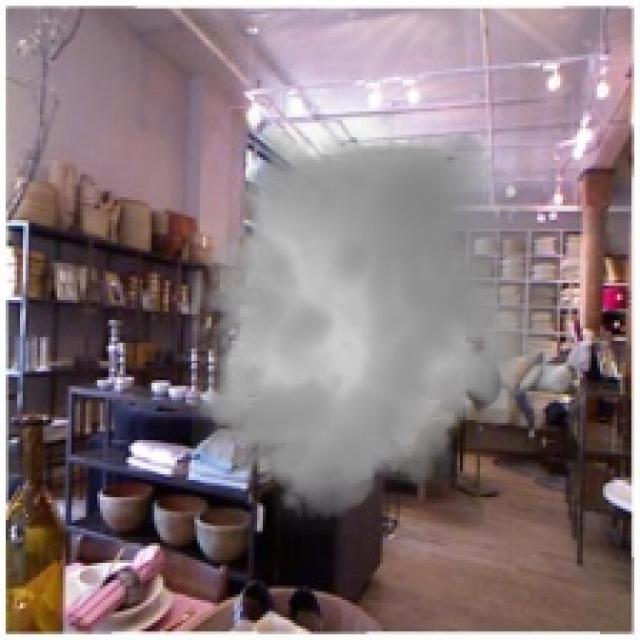smoke: (174, 111, 572, 534)
